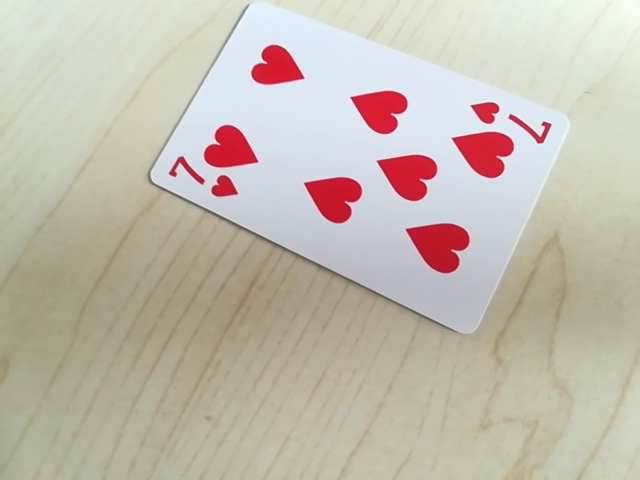hx 7: (465, 98, 554, 137), (164, 163, 243, 199)
